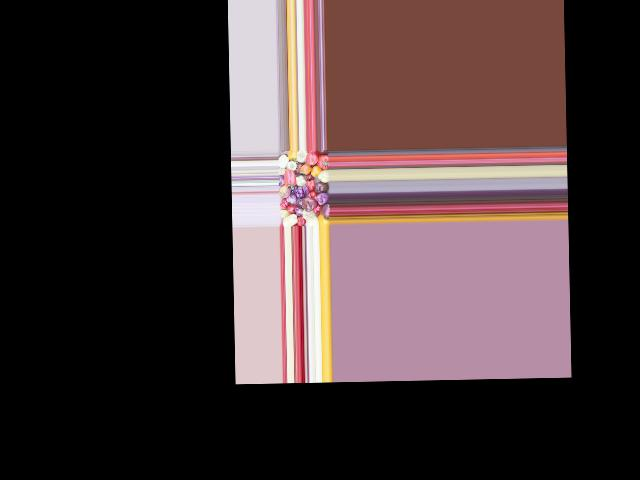bell_pepper: (297, 150, 307, 163)
